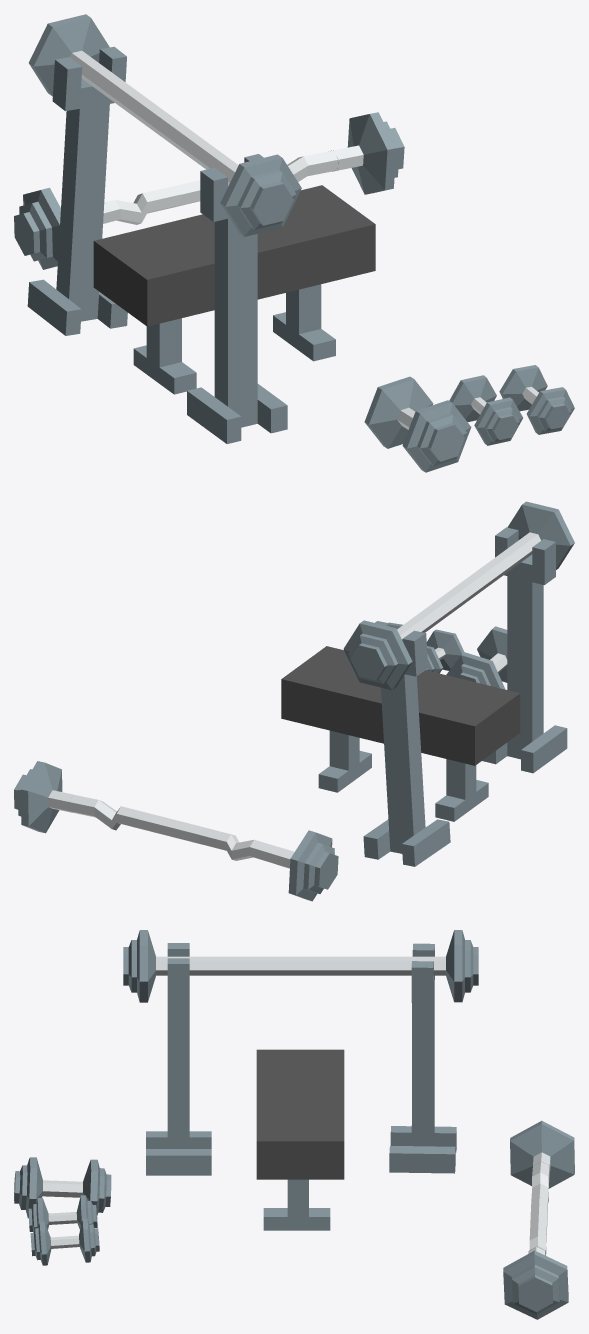
The model's file is bench.glb.
3 renders of one model, top to bottom at view 1: azimuth 30°, elevation 25°; view 2: azimuth 150°, elevation 25°; view 3: azimuth 270°, elevation 25°, orthographic. The views are drawn at different scales.
Parts seen in each view (by area): view 1: mesh_1090928880_material_23___9566_0, mesh_1987805641_material_17___9566_0, mesh_1746880361_material_17___9566_0, mesh_2018777695_material_17___9566_0, mesh_194200947_material_17___9566_0, mesh_112813934_material_17___9566_0, mesh_2044041707_material_17___9566_0, mesh_645646701_material_17___9566_0, mesh_91463382_material_17___9566_0, mesh_2100501510_material_17___9566_0, mesh_1813688247_material_17___9566_0, mesh_645646701_material_15___9566_0 (+7 smaller); view 2: mesh_1090928880_material_23___9566_0, mesh_1746880361_material_17___9566_0, mesh_1987805641_material_17___9566_0, mesh_645646701_material_17___9566_0, mesh_2100501510_material_17___9566_0, mesh_1785382381_material_15___9566_0, mesh_112813934_material_17___9566_0, mesh_91463382_material_17___9566_0, mesh_2044041707_material_17___9566_0, mesh_2018777695_material_17___9566_0, mesh_2018777695_material_15___9566_0, mesh_2030259535_material_15___9566_0 (+4 smaller); view 3: mesh_1090928880_material_23___9566_0, mesh_1987805641_material_17___9566_0, mesh_1746880361_material_17___9566_0, mesh_112813934_material_17___9566_0, mesh_2100501510_material_17___9566_0, mesh_645646701_material_15___9566_0, mesh_2018777695_material_15___9566_0, mesh_2044041707_material_17___9566_0, mesh_2018777695_material_17___9566_0, mesh_645646701_material_17___9566_0, mesh_194200947_material_17___9566_0, mesh_1813688247_material_17___9566_0 (+6 smaller).
Boxes of the visible parts, bbox=[...] form: mesh_1090928880_material_23___9566_0: bbox=[93, 185, 375, 326]; mesh_1987805641_material_17___9566_0: bbox=[27, 46, 127, 335]; mesh_1746880361_material_17___9566_0: bbox=[187, 154, 287, 443]; mesh_2018777695_material_17___9566_0: bbox=[220, 154, 301, 236]; mesh_194200947_material_17___9566_0: bbox=[402, 400, 471, 472]; mesh_112813934_material_17___9566_0: bbox=[331, 112, 404, 194]; mesh_2044041707_material_17___9566_0: bbox=[273, 284, 335, 361]; mesh_645646701_material_17___9566_0: bbox=[29, 14, 160, 120]; mesh_91463382_material_17___9566_0: bbox=[133, 318, 196, 394]; mesh_2100501510_material_17___9566_0: bbox=[14, 187, 60, 269]; mesh_1813688247_material_17___9566_0: bbox=[364, 376, 433, 448]; mesh_645646701_material_15___9566_0: bbox=[70, 50, 169, 135]; mesh_1090928880_material_23___9566_0: bbox=[281, 646, 520, 765]; mesh_1746880361_material_17___9566_0: bbox=[482, 527, 567, 773]; mesh_1987805641_material_17___9566_0: bbox=[363, 621, 450, 866]; mesh_645646701_material_17___9566_0: bbox=[343, 620, 412, 689]; mesh_2100501510_material_17___9566_0: bbox=[288, 830, 338, 901]; mesh_1785382381_material_15___9566_0: bbox=[69, 795, 203, 844]; mesh_112813934_material_17___9566_0: bbox=[14, 761, 73, 833]; mesh_91463382_material_17___9566_0: bbox=[435, 759, 488, 821]; mesh_2044041707_material_17___9566_0: bbox=[318, 730, 371, 792]; mesh_2018777695_material_17___9566_0: bbox=[507, 501, 574, 569]; mesh_2018777695_material_15___9566_0: bbox=[455, 532, 540, 603]; mesh_2030259535_material_15___9566_0: bbox=[199, 827, 278, 863]; mesh_1090928880_material_23___9566_0: bbox=[256, 1049, 344, 1179]; mesh_1987805641_material_17___9566_0: bbox=[389, 943, 456, 1173]; mesh_1746880361_material_17___9566_0: bbox=[146, 943, 211, 1175]; mesh_112813934_material_17___9566_0: bbox=[503, 1250, 568, 1319]; mesh_2100501510_material_17___9566_0: bbox=[510, 1120, 574, 1188]; mesh_645646701_material_15___9566_0: bbox=[301, 956, 445, 975]; mesh_2018777695_material_15___9566_0: bbox=[156, 956, 301, 975]; mesh_2044041707_material_17___9566_0: bbox=[263, 1179, 330, 1230]; mesh_2018777695_material_17___9566_0: bbox=[123, 930, 155, 1002]; mesh_645646701_material_17___9566_0: bbox=[446, 930, 478, 1002]; mesh_194200947_material_17___9566_0: bbox=[14, 1157, 42, 1218]; mesh_1813688247_material_17___9566_0: bbox=[82, 1159, 111, 1215].
Size of the model in its own units: 2.15 by 1.45 by 3.05.
